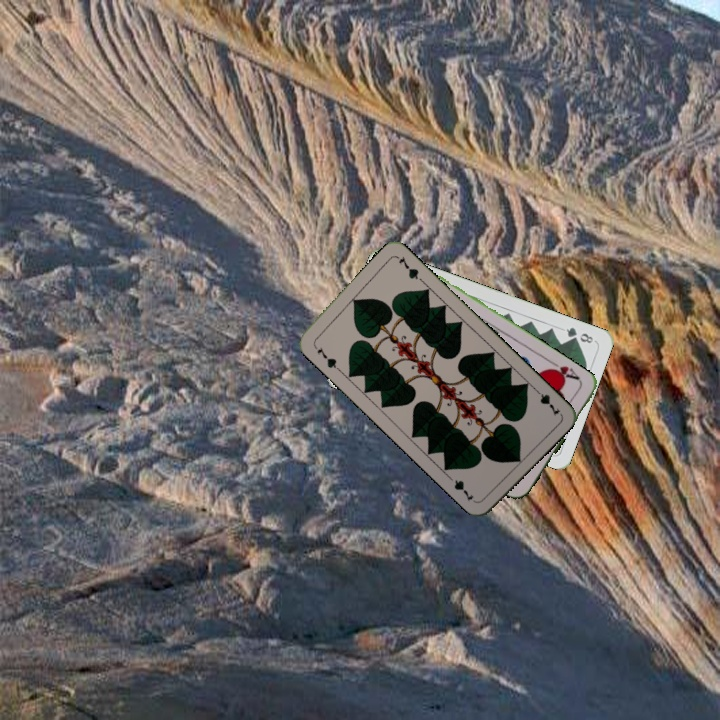G7: (530, 384, 563, 419), (310, 341, 342, 373)
G8: (562, 323, 596, 346)
HA: (544, 357, 583, 385)
